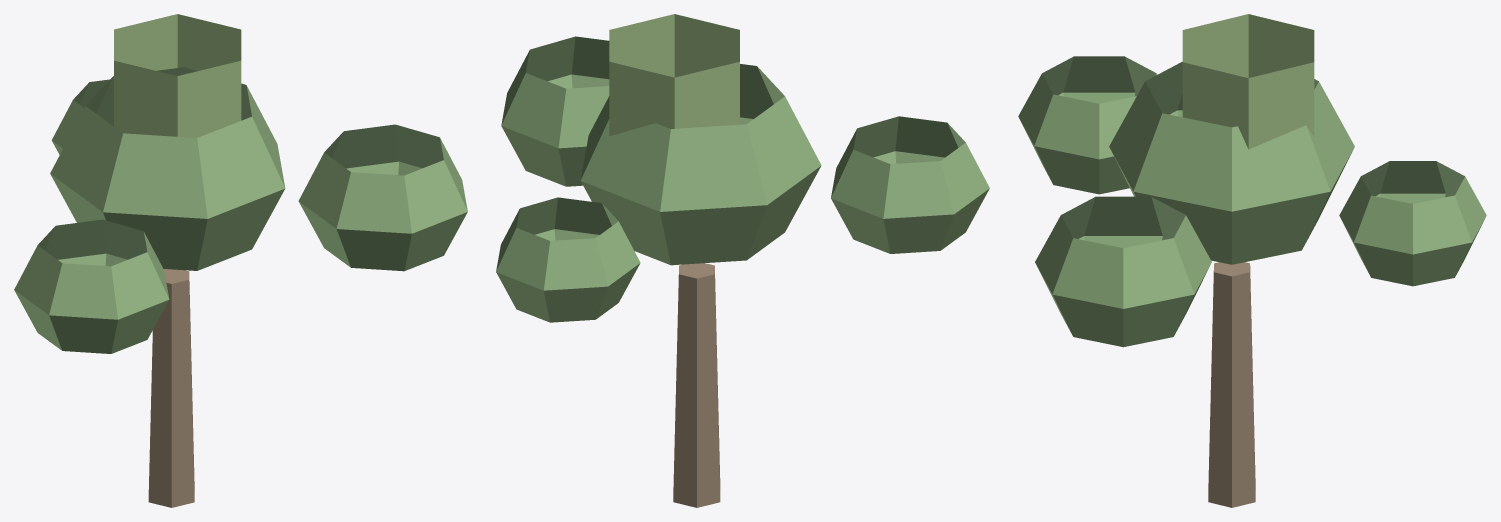
File: tree_park.glb
3 renders of one model, left to right at view 1: azimuth 30°, elevation 25°; view 2: azimuth 150°, elevation 25°; view 3: azimuth 270°, elevation 25°, orthographic. The views are drawn at different scales.
Visible parts, largest first — view 1: tree_park_leaf, tree_park_leaf_light, tree_park_trunk; view 2: tree_park_leaf, tree_park_leaf_light, tree_park_trunk; view 3: tree_park_leaf, tree_park_leaf_light, tree_park_trunk.
Part boxes in pixels (bbox=[...]): tree_park_leaf: bbox=[14, 67, 467, 353]; tree_park_leaf_light: bbox=[114, 14, 241, 137]; tree_park_trunk: bbox=[148, 269, 194, 507]; tree_park_leaf: bbox=[496, 36, 989, 322]; tree_park_leaf_light: bbox=[609, 14, 739, 136]; tree_park_trunk: bbox=[673, 263, 720, 507]; tree_park_leaf: bbox=[1018, 56, 1486, 347]; tree_park_leaf_light: bbox=[1182, 14, 1314, 149]; tree_park_trunk: bbox=[1208, 262, 1255, 507].
Bounding box in the file's own units: 9.62 × 9.2 × 8.55.
